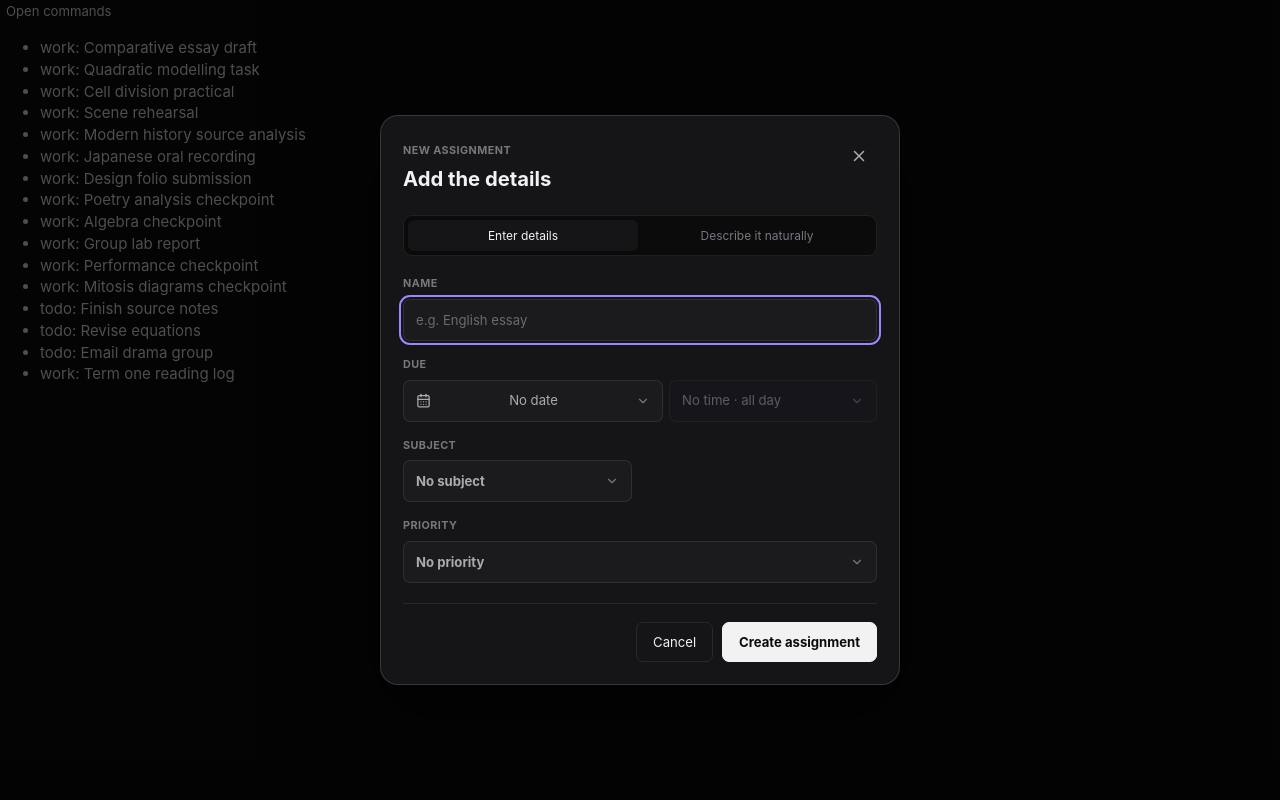
Test: AI demo review flows › offers natural assignment entry in New without replacing the manual form
The image size is (1280, 800).
Expected: the field named "Work item name" is shown, [403,299,877,341]
Click the button "Describe it naturally" at (757, 236), box [642,220,872,252]
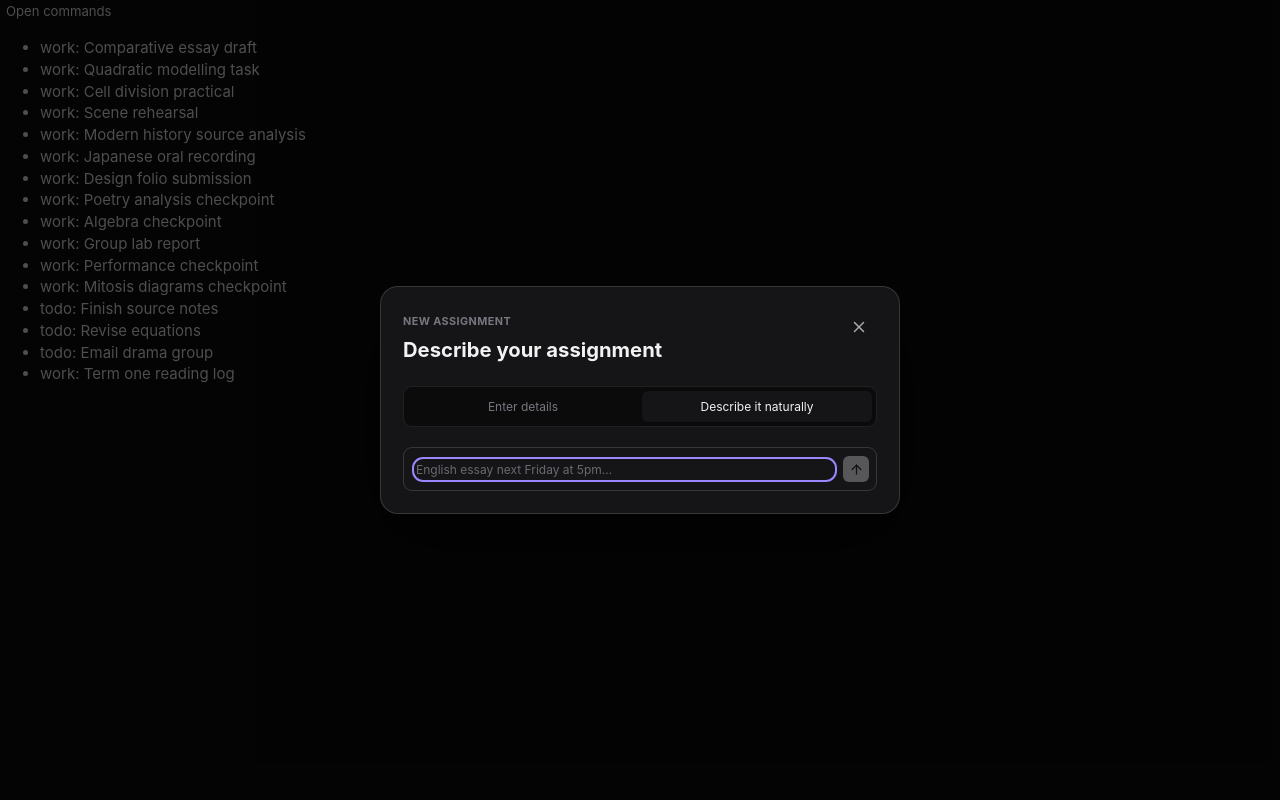
Expected: the field labelled "Work item name" is gone
Type "Read chapter six tomorrow" into the field named "What needs doing?" at (624, 469), box [416,460,833,478]
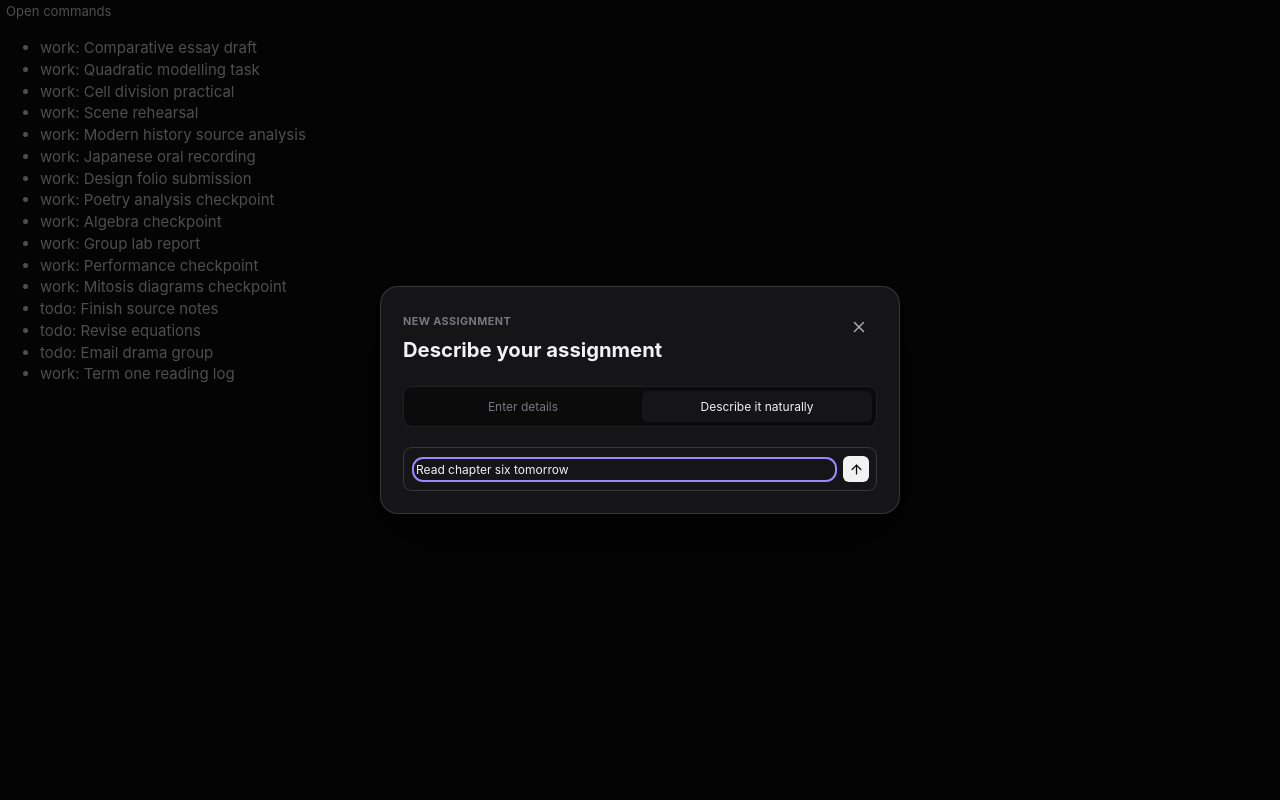
Click the button named "Preview assignment" at (856, 469), box [843,456,869,482]
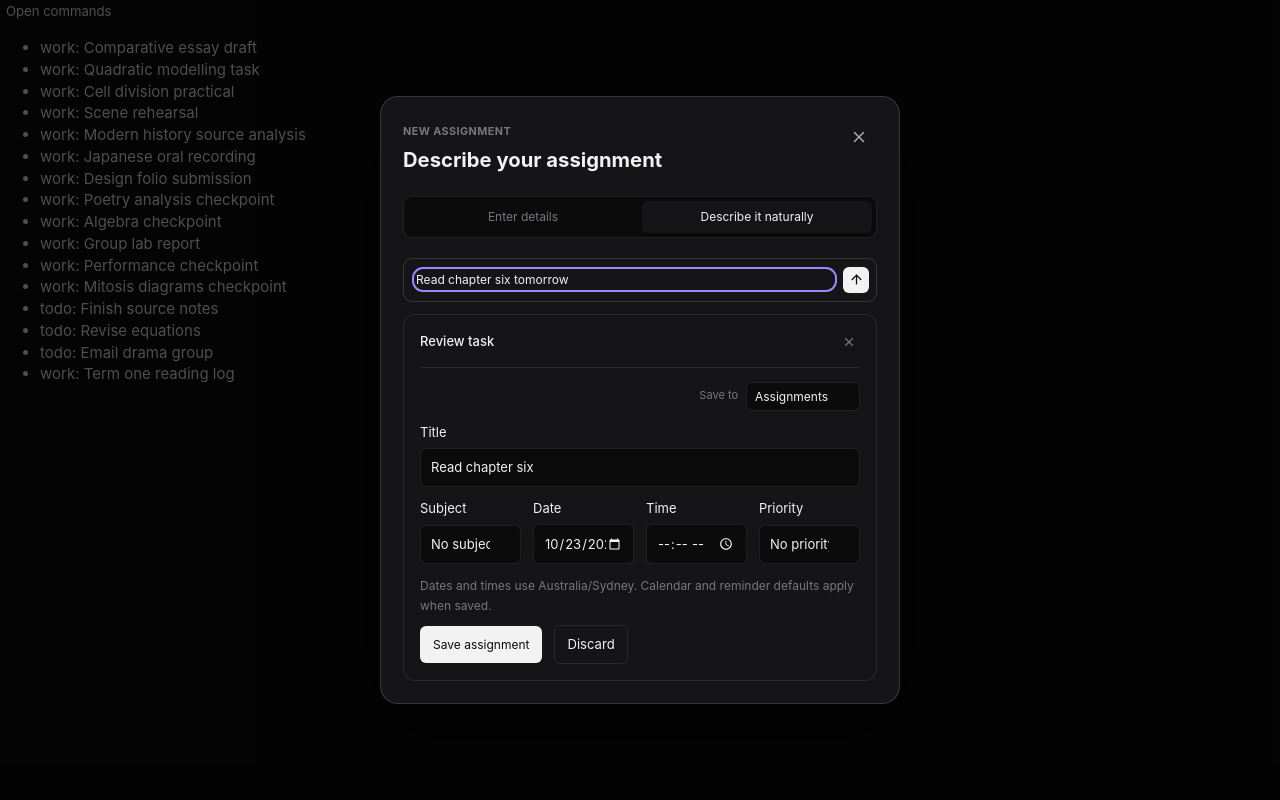
Expected: the dropdown labelled "Save to" shows "Assignments", [746,382,860,411]
Click the button "Save assignment" at (481, 644), box [420,626,542,663]
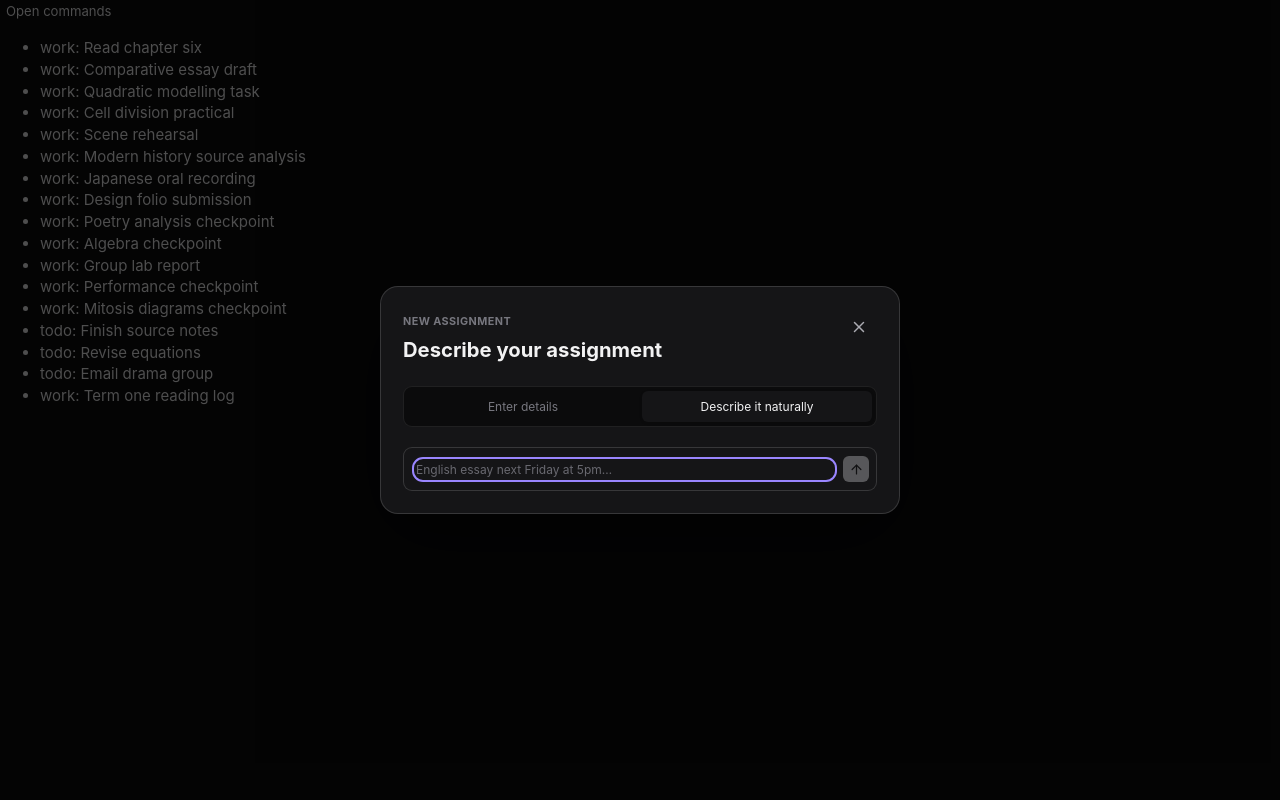
Expected: the list named "Created items" shows "work: Read chapter six", [40,38,306,405]
Click the button "Enter details" at (523, 407), box [408,391,638,422]
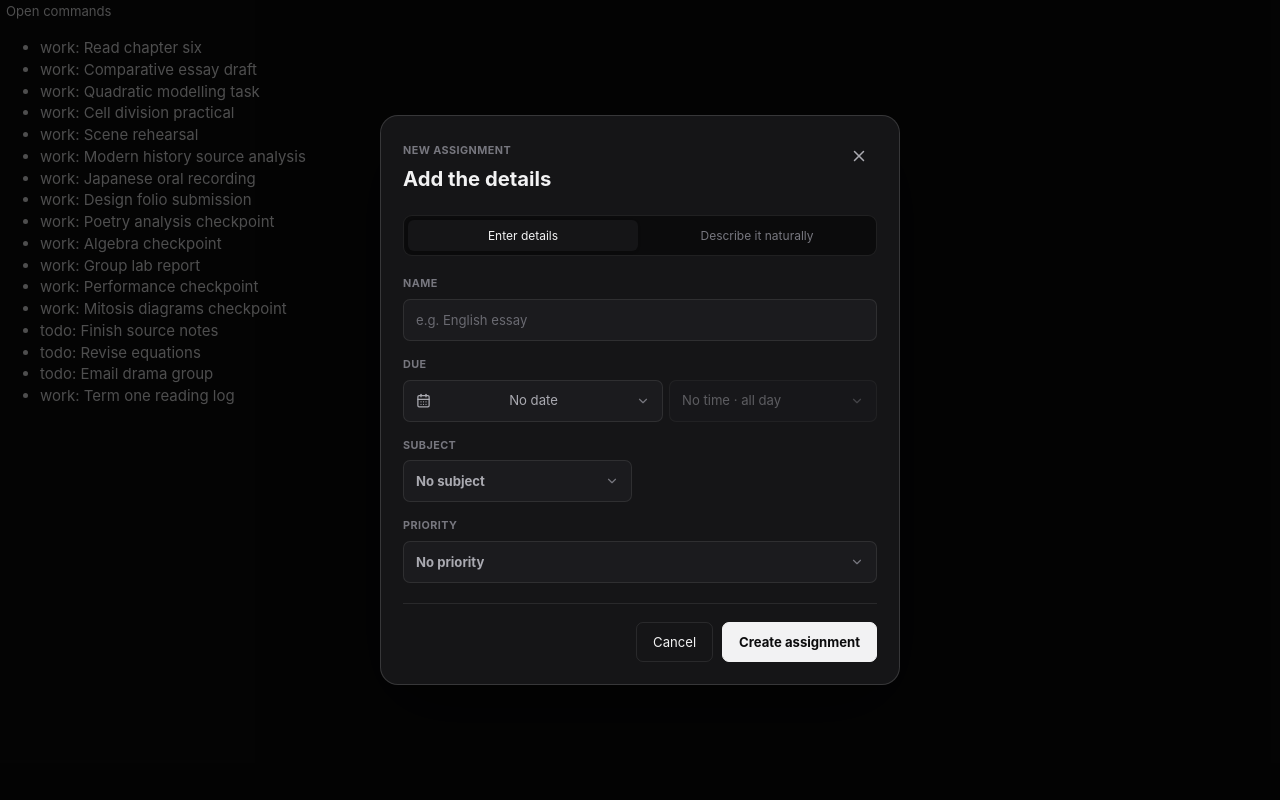
Expected: the field named "Work item name" is shown, [403,299,877,341]
